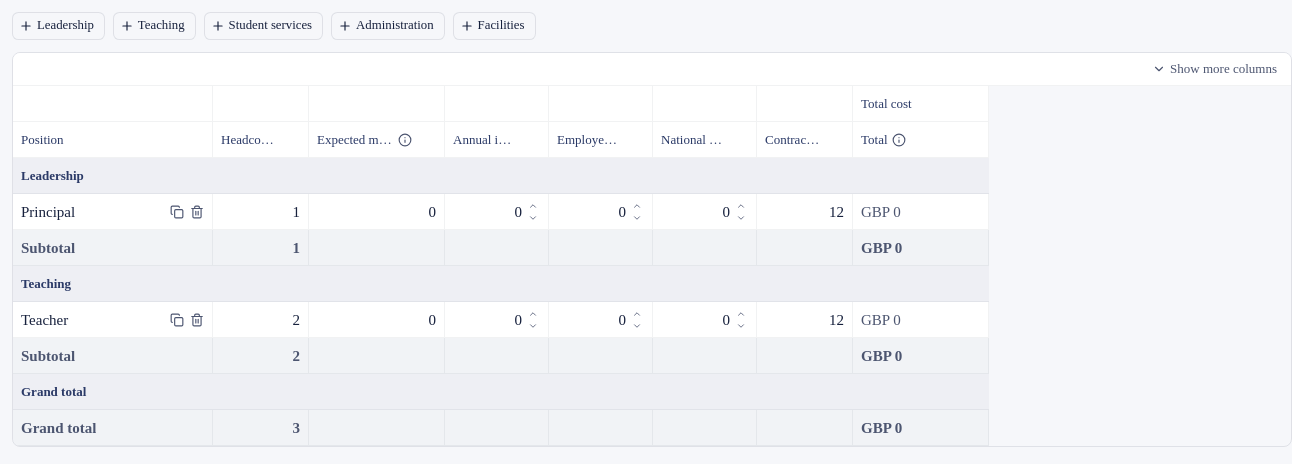
PositionEditor › removes a position from the store when its delete icon is clicked
The image size is (1292, 464).
What coordinates should you click on to do the following:
click the button named "Remove Teacher"
I would click on:
 (197, 320)
Its box is x1=190 y1=312 x2=204 y2=326.
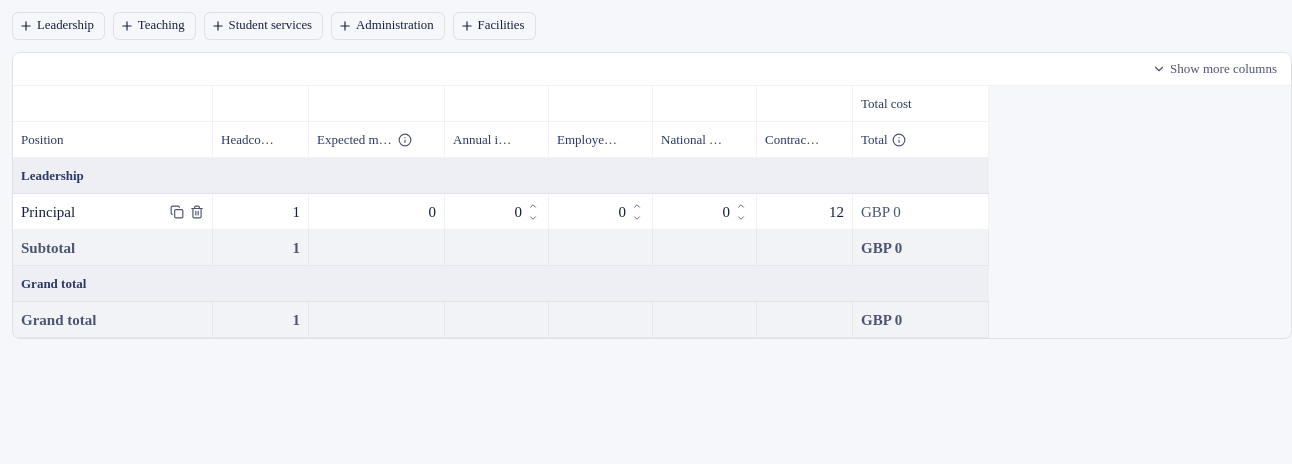
Now the text "Teacher" is gone
